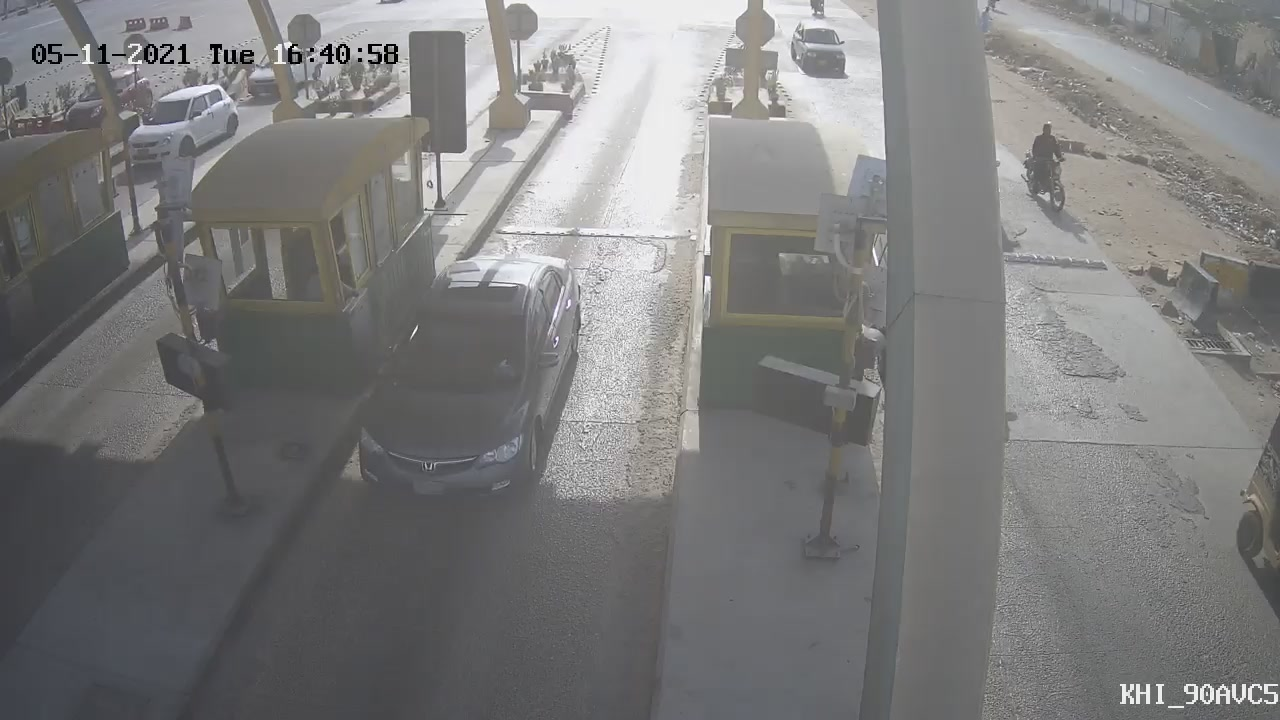F1: (331, 239, 594, 530)
